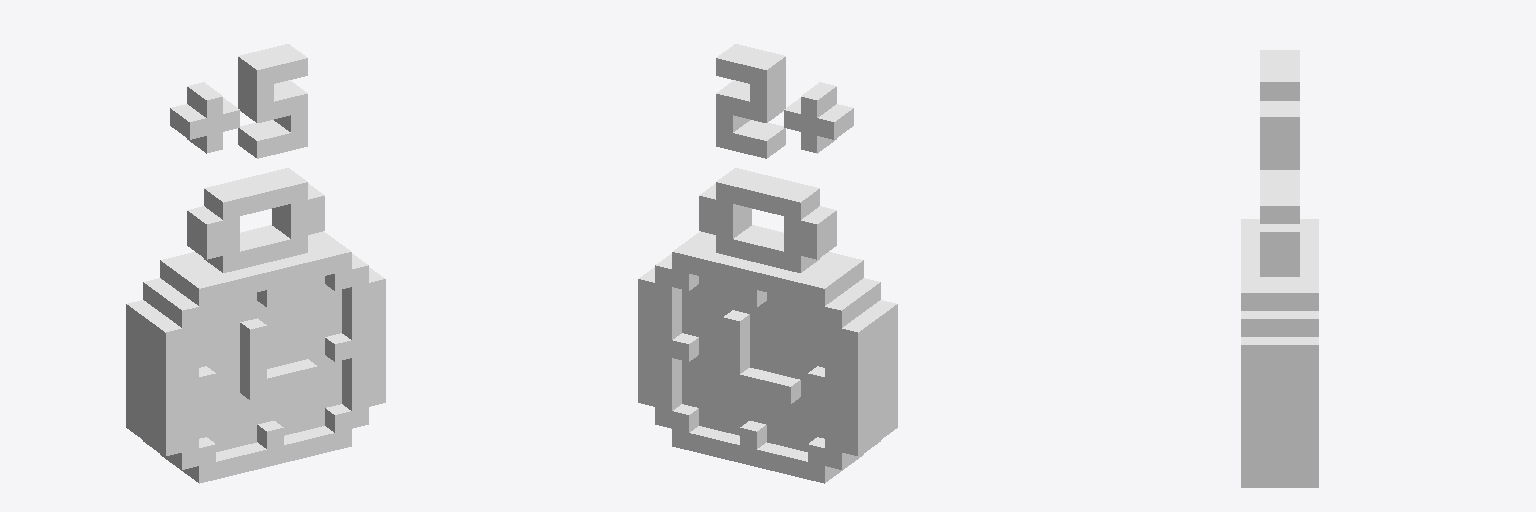
File: StopWatch.obj
3 views of the same model, side by side, from view 1: azimuth 30°, elevation 25°; view 2: azimuth 150°, elevation 25°; view 3: azimuth 270°, elevation 25° (orthographic).
Visible parts, largest first — view 1: object 1; view 2: object 1; view 3: object 1.
Part boxes in pixels (left/top/right/bottom): object 1: left=126, top=44, right=385, bottom=483; object 1: left=638, top=44, right=897, bottom=483; object 1: left=1241, top=50, right=1318, bottom=487.
Bounding box in the file's own units: 1.3 × 2.2 × 0.4.